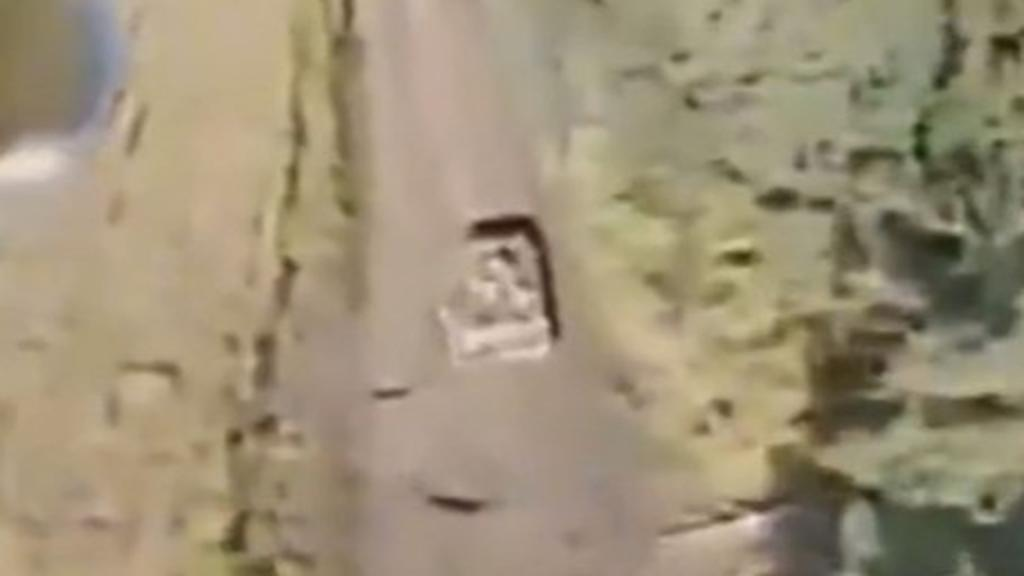APC-IFV: (432, 208, 560, 364)
